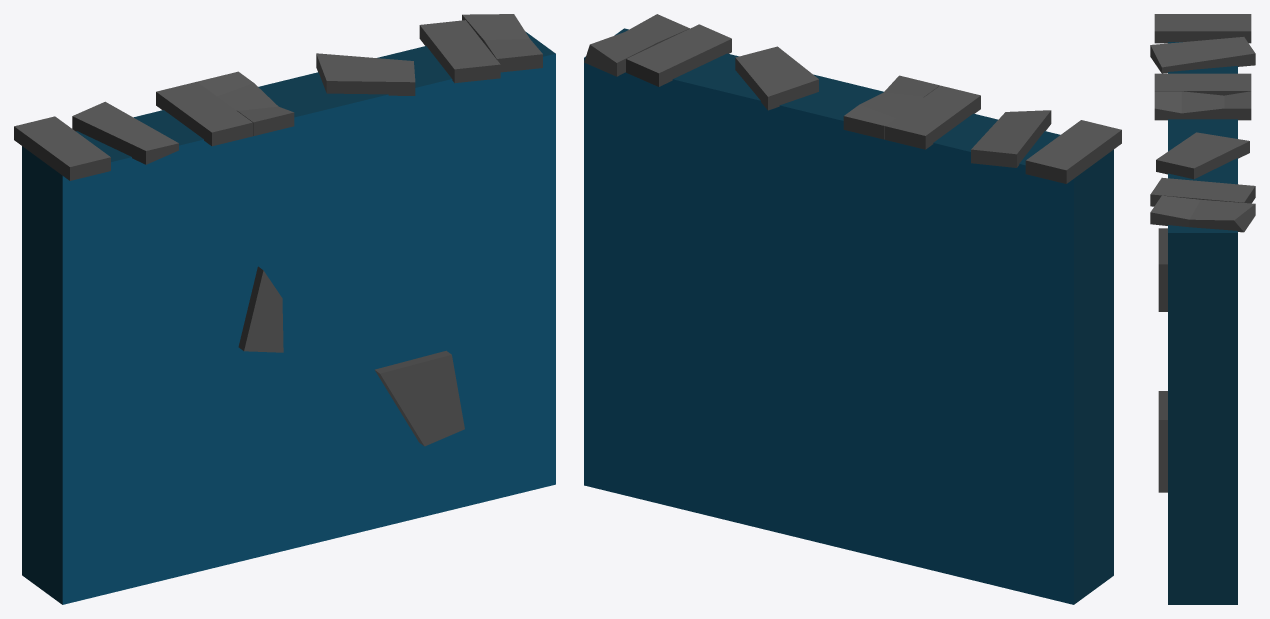
Rendered from wall_type_04.fbx.
3 renders of one model, left to right at view 1: azimuth 30°, elevation 25°; view 2: azimuth 150°, elevation 25°; view 3: azimuth 270°, elevation 25°, orthographic. The views are drawn at different scales.
Parts seen in each view (by area): view 1: wall_type_04; view 2: wall_type_04; view 3: wall_type_04.
Part boxes in pixels (bbox=[...]): wall_type_04: bbox=[14, 14, 555, 604]; wall_type_04: bbox=[584, 14, 1121, 604]; wall_type_04: bbox=[1150, 14, 1255, 604].
Bounding box in the file's own units: 156 × 134 × 33.27.
